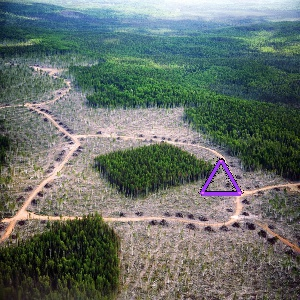triangle: (197, 156, 244, 198)
